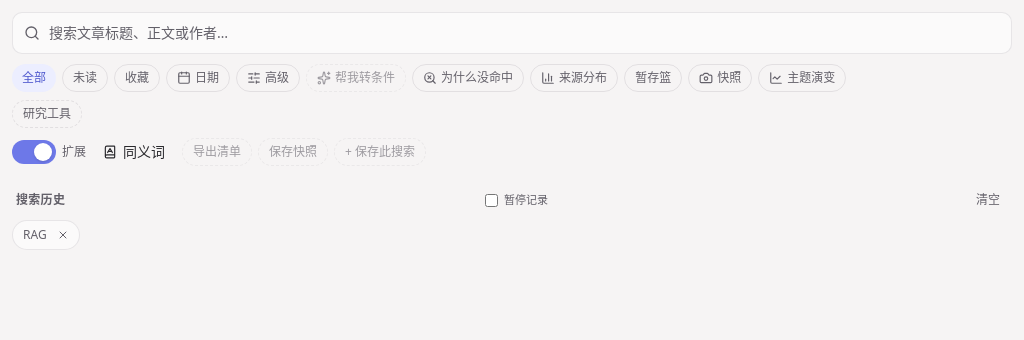
SearchPage（0022 全局搜索正式功能） › 点历史词条 → 填入输入框并执行搜索
Step 1. Click the button "RAG" → point(35, 235), box [23,221,47,249]
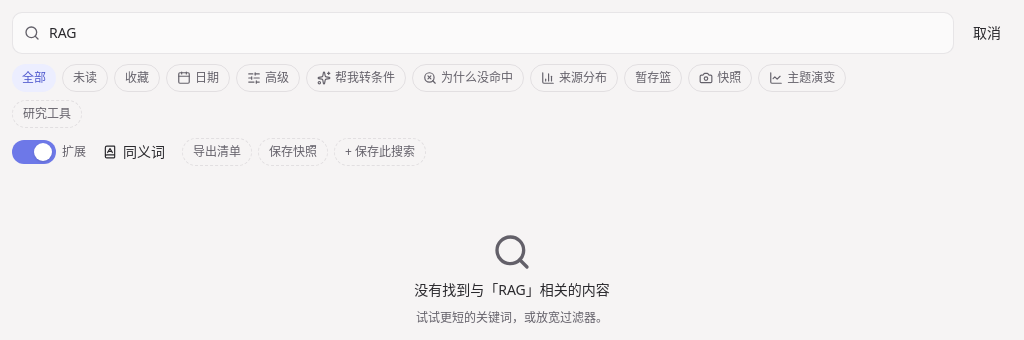
Expected: the search field named "搜索" holds "RAG", [12,12,954,54]
Expected: the text "没有找到与「RAG」相关的内容" is shown, [414,280,610,300]
